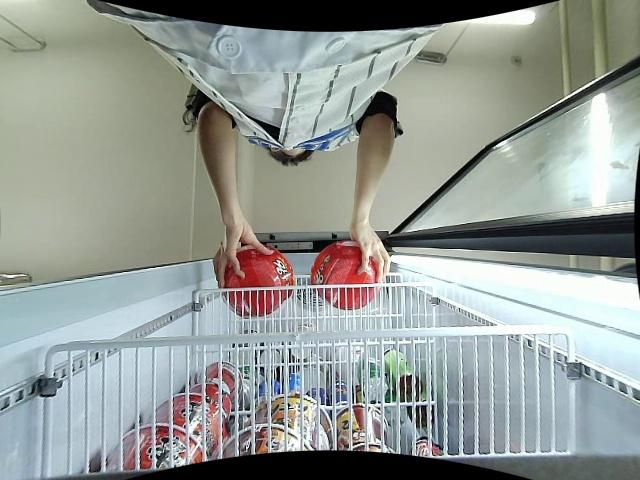00_hand: (211, 227, 273, 289), (349, 221, 391, 290)
10_wangTtukkeong: (219, 243, 293, 318), (310, 241, 378, 311)
